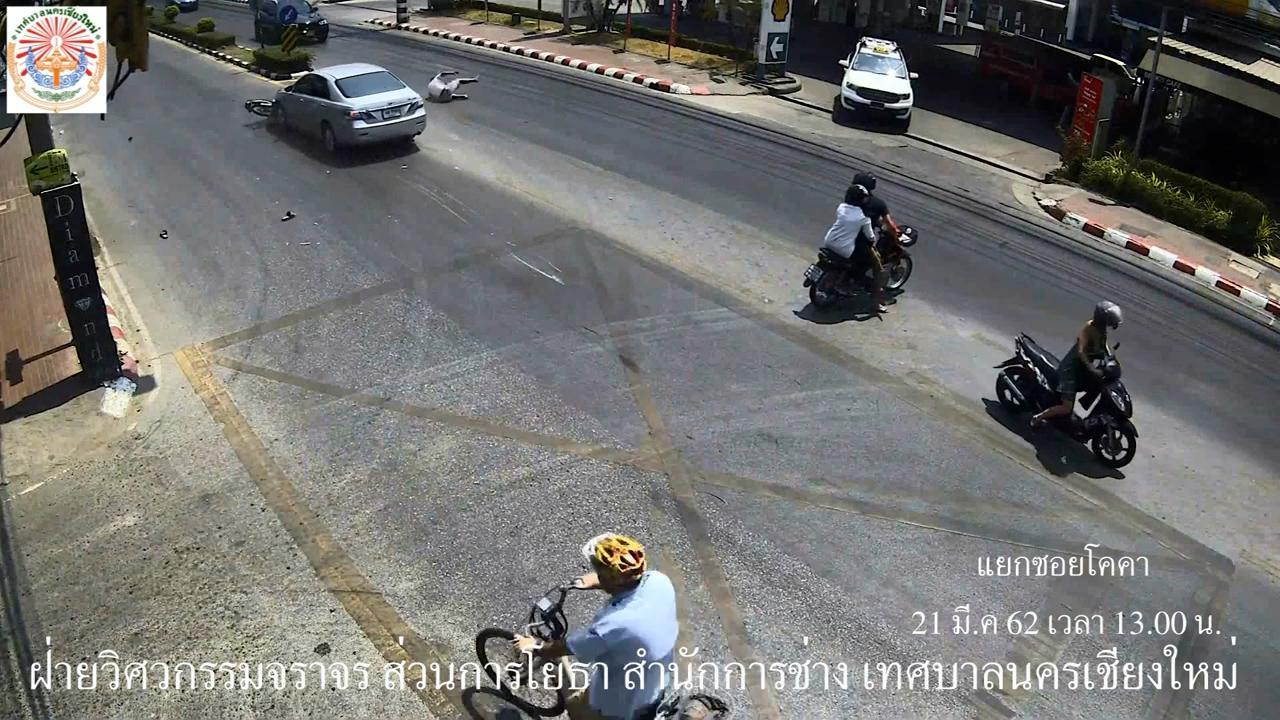accident: (420, 62, 481, 106)
